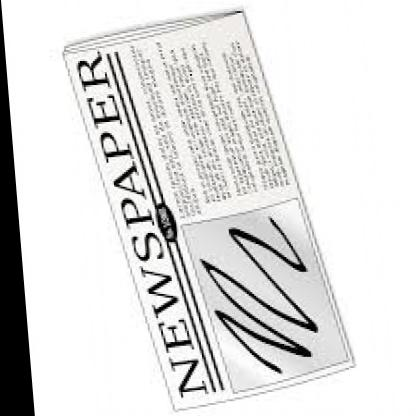Paper: (39, 0, 409, 401)
